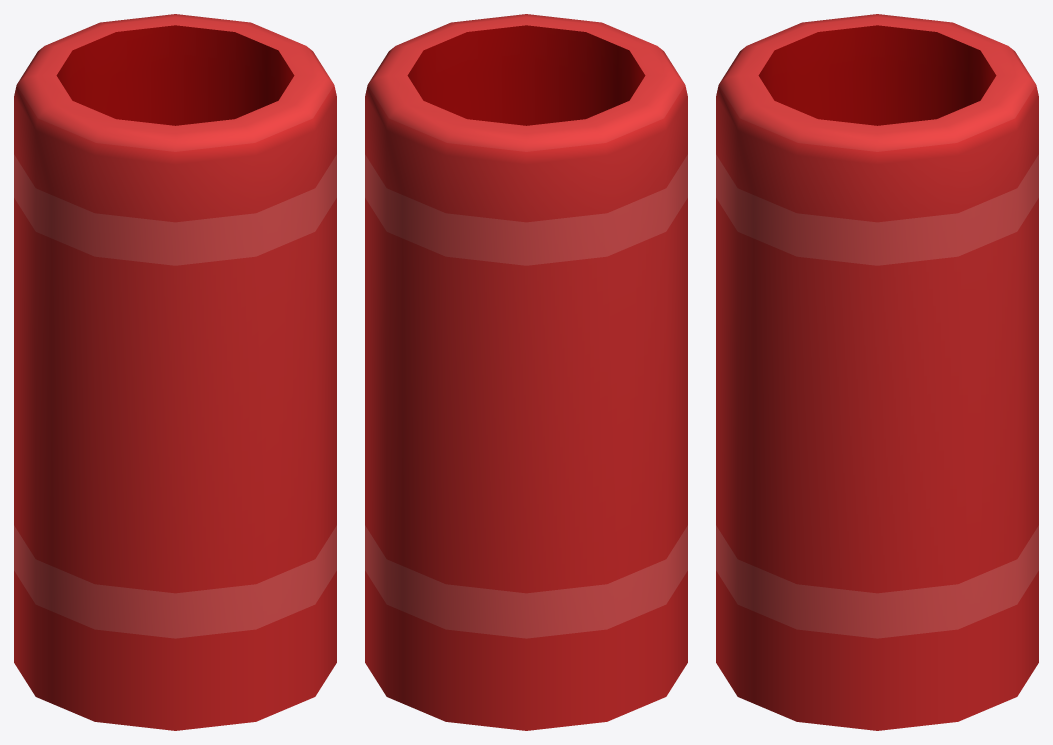
Rendered from F_P_FireworksEjector_1.FBX.
3 renders of one model, left to right at view 1: azimuth 30°, elevation 25°; view 2: azimuth 150°, elevation 25°; view 3: azimuth 270°, elevation 25°, orthographic.
Parts seen in each view (by area): view 1: F_P_FireworksEjector_1; view 2: F_P_FireworksEjector_1; view 3: F_P_FireworksEjector_1.
Boxes of the visible parts, x1,y1,x2,y2 form: F_P_FireworksEjector_1: [14, 14, 336, 730]; F_P_FireworksEjector_1: [365, 14, 687, 730]; F_P_FireworksEjector_1: [716, 14, 1038, 730].
Size of the model in its own units: 39.47 by 79.2 by 39.47.
